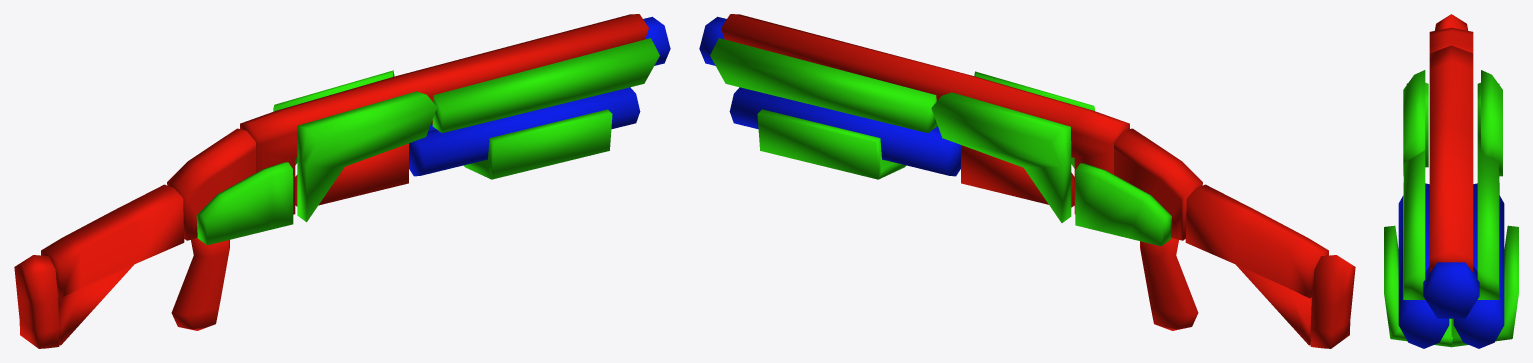
File: ShotgunForExport (1).fbx
3 views of the same model, side by side, from view 1: azimuth 30°, elevation 25°; view 2: azimuth 150°, elevation 25°; view 3: azimuth 270°, elevation 25° (orthographic). The views are drawn at different scales.
Parts seen in each view (by area): view 1: Gun; view 2: Gun; view 3: Gun.
Part boxes in pixels (bbox=[...]): Gun: bbox=[14, 14, 670, 348]; Gun: bbox=[699, 14, 1355, 348]; Gun: bbox=[1384, 14, 1518, 348].
Bounding box in the file's own units: 453 × 142 × 71.44.
